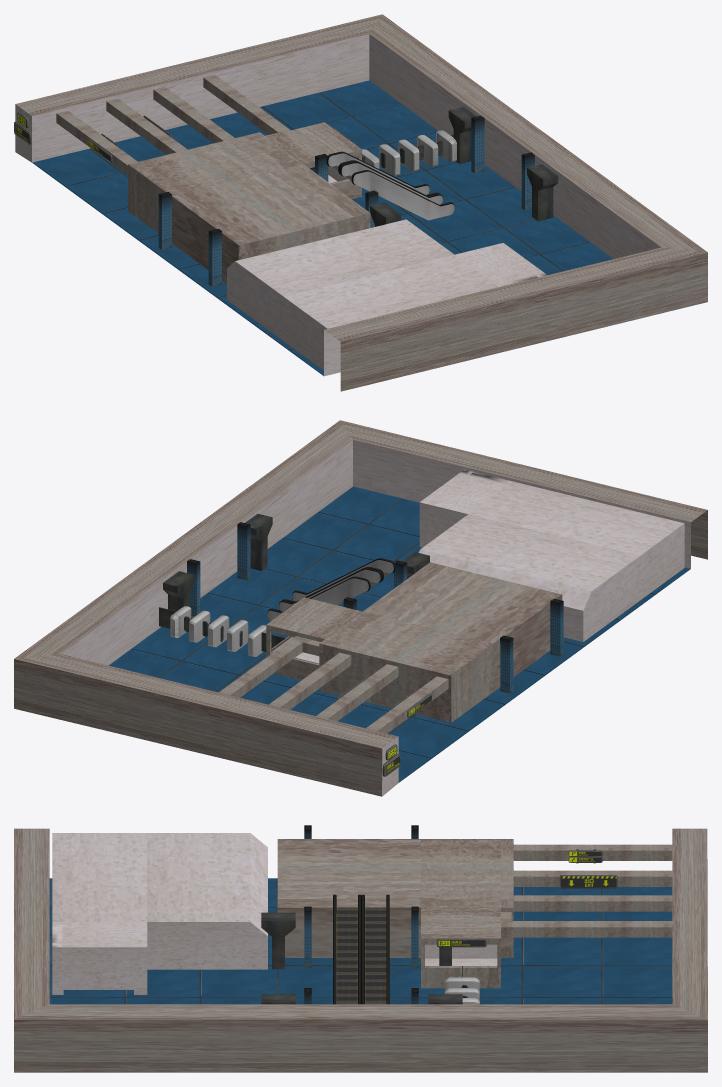
Rendered from mod_ground_indoor.fbx.
3 views of the same model, one above another, from view 1: azimuth 30°, elevation 25°; view 2: azimuth 150°, elevation 25°; view 3: azimuth 270°, elevation 25° (orthographic). The views are drawn at different scales.
Parts seen in each view (by area): view 1: polySurface1304, polySurface1281, polySurface1282, pCube65, polySurface1463, polySurface1289, polySurface1285, polySurface1255, polySurface1293, polySurface1290; view 2: polySurface1304, polySurface1282, polySurface1281, pCube65, polySurface1463, polySurface1285, polySurface1290, polySurface1255, polySurface1293, polySurface1289; view 3: polySurface1304, polySurface1282, polySurface1281, pCube65, polySurface1289, polySurface1290, polySurface1463, polySurface1295, polySurface1285, pasted__pCube24, pasted__pCube34, pasted__pCube28.
Part boxes in pixels (bbox=[...]): polySurface1304: bbox=[15, 14, 707, 391]; polySurface1281: bbox=[128, 122, 370, 283]; polySurface1282: bbox=[227, 219, 547, 370]; pCube65: bbox=[56, 74, 290, 174]; polySurface1463: bbox=[158, 115, 534, 286]; polySurface1289: bbox=[340, 161, 454, 220]; polySurface1285: bbox=[362, 130, 456, 175]; polySurface1255: bbox=[527, 164, 558, 221]; polySurface1293: bbox=[448, 106, 476, 163]; polySurface1290: bbox=[326, 151, 439, 196]; polySurface1304: bbox=[14, 420, 707, 796]; polySurface1282: bbox=[418, 469, 684, 641]; polySurface1281: bbox=[266, 562, 562, 722]; pCube65: bbox=[219, 636, 448, 733]; polySurface1463: bbox=[187, 522, 563, 693]; polySurface1285: bbox=[159, 606, 284, 656]; polySurface1290: bbox=[267, 568, 382, 621]; polySurface1255: bbox=[245, 513, 272, 570]; polySurface1293: bbox=[163, 571, 194, 611]; polySurface1289: bbox=[282, 558, 395, 602]; polySurface1304: bbox=[14, 828, 707, 1072]; polySurface1282: bbox=[52, 833, 267, 994]; polySurface1281: bbox=[277, 839, 513, 988]; pCube65: bbox=[501, 844, 672, 937]; polySurface1289: bbox=[333, 894, 361, 1004]; polySurface1290: bbox=[361, 894, 389, 1004]; polySurface1463: bbox=[304, 825, 418, 1004]; polySurface1295: bbox=[261, 912, 295, 969]; polySurface1285: bbox=[444, 966, 479, 1004]; pasted__pCube24: bbox=[560, 875, 617, 888]; pasted__pCube34: bbox=[436, 938, 486, 947]; pasted__pCube28: bbox=[568, 849, 602, 863].
Size of what is drawn, in the model's own units: 58.42 by 10.34 by 89.13.
